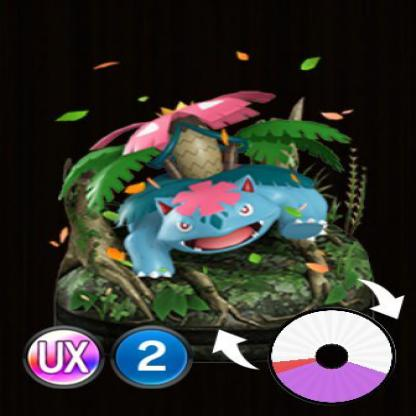Venusaur: (1, 67, 416, 274)
